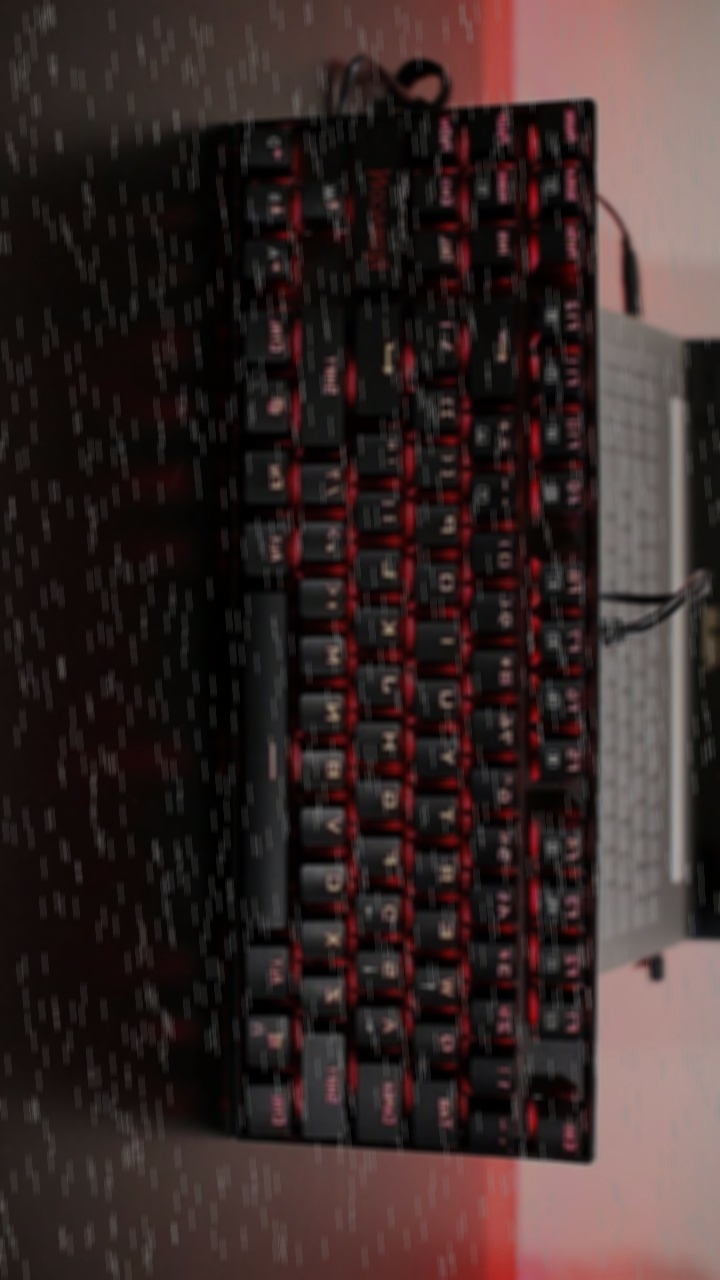0: (280, 962, 288, 1012)
0-1-2-3-4-5-6-7-8-9-A-B-C-D-E-F: (214, 884, 224, 933), (216, 780, 225, 830), (247, 568, 255, 624), (183, 835, 192, 884), (280, 846, 287, 905), (247, 808, 256, 852), (280, 746, 287, 802), (247, 707, 256, 750), (183, 1040, 191, 1088), (183, 936, 190, 985)
8: (281, 1167, 289, 1220)
9: (280, 1064, 289, 1118)
A: (151, 949, 159, 1001)
B: (280, 587, 286, 647)
CAPSLK: (151, 564, 159, 628)
D: (248, 418, 255, 468)
DEL: (151, 339, 160, 386)
E: (248, 315, 254, 366)
END: (215, 609, 222, 668)
F1: (318, 742, 327, 798)
F10: (318, 639, 326, 688)
F11: (318, 533, 326, 588)
F5: (319, 1223, 326, 1266)
F6: (319, 1121, 327, 1161)
F7: (319, 1014, 327, 1056)
F8: (318, 855, 326, 896)
F9: (151, 824, 160, 873)
H: (280, 298, 287, 363)
HOME: (248, 1131, 256, 1148)
I: (280, 411, 286, 455)
INS: (214, 1201, 223, 1239)
J: (214, 1098, 223, 1131)
KEYBOARD: (214, 994, 223, 1031)
L: (151, 443, 159, 487)
LEFT: (183, 1148, 192, 1184)
M: (151, 706, 160, 736)
MENU: (183, 1246, 192, 1280)
N: (246, 1017, 255, 1052)
O: (247, 913, 256, 949)
P: (318, 192, 325, 256)
PAUSE: (247, 206, 254, 270)
PGDN: (279, 196, 286, 258)
PGUP: (318, 397, 326, 462)
R: (150, 240, 161, 290)
S: (318, 294, 326, 359)
SCRLK: (182, 631, 190, 706)
TAB: (246, 1222, 256, 1264)
U: (181, 327, 191, 377)
